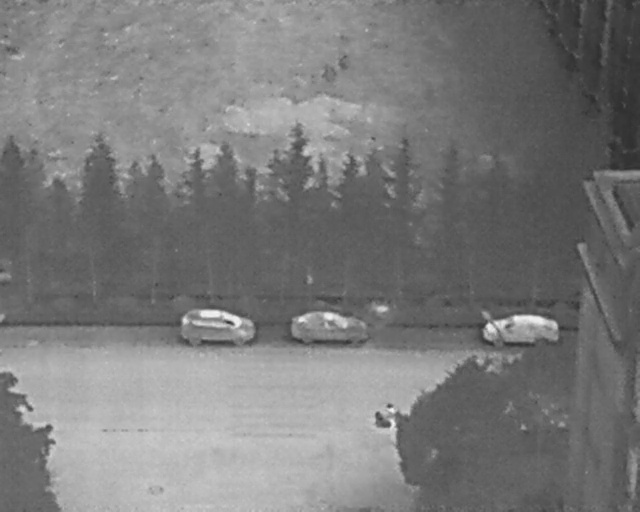Car: (182, 307, 256, 349), (292, 310, 370, 347), (485, 313, 562, 346)
